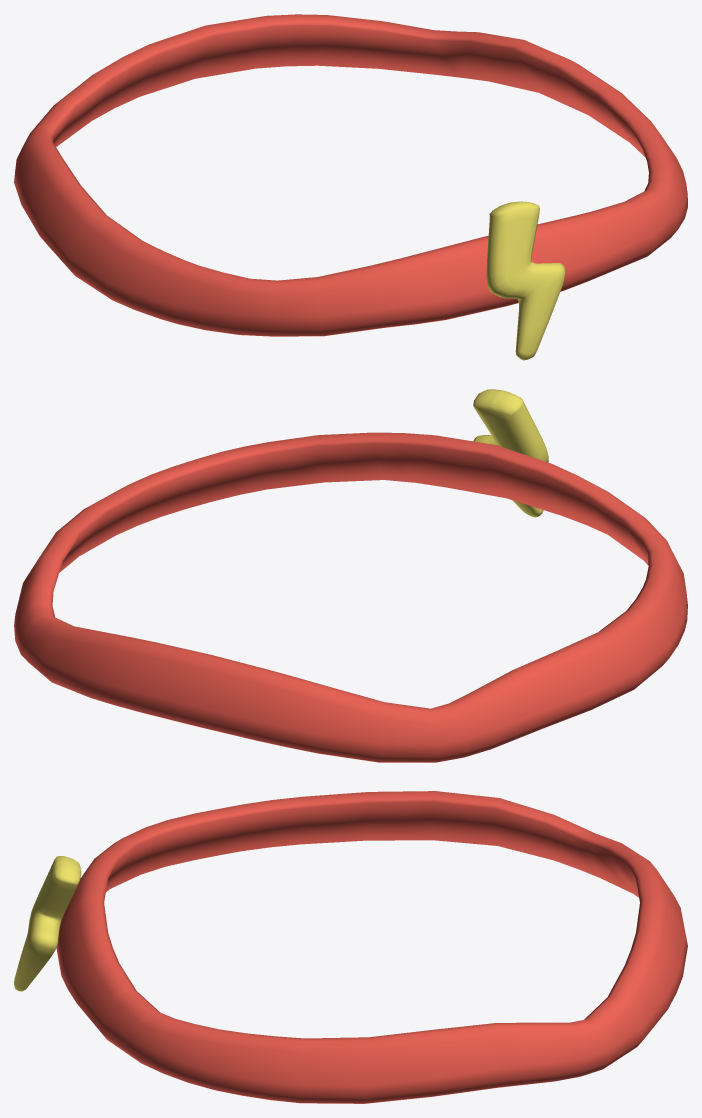
Rendered from bandana.fbx.
The picture shows the model from 3 angles, top to bottom: view 1: azimuth 30°, elevation 25°; view 2: azimuth 150°, elevation 25°; view 3: azimuth 270°, elevation 25°; orthographic projection. The views are drawn at different scales.
Visible parts, largest first — view 1: Cube.010; view 2: Cube.010; view 3: Cube.010.
Boxes of the visible parts, x1,y1,x2,y2 form: Cube.010: [14, 14, 687, 360]; Cube.010: [14, 389, 687, 762]; Cube.010: [14, 791, 687, 1103].
Bounding box in the file's own units: 140 × 32.07 × 146.
